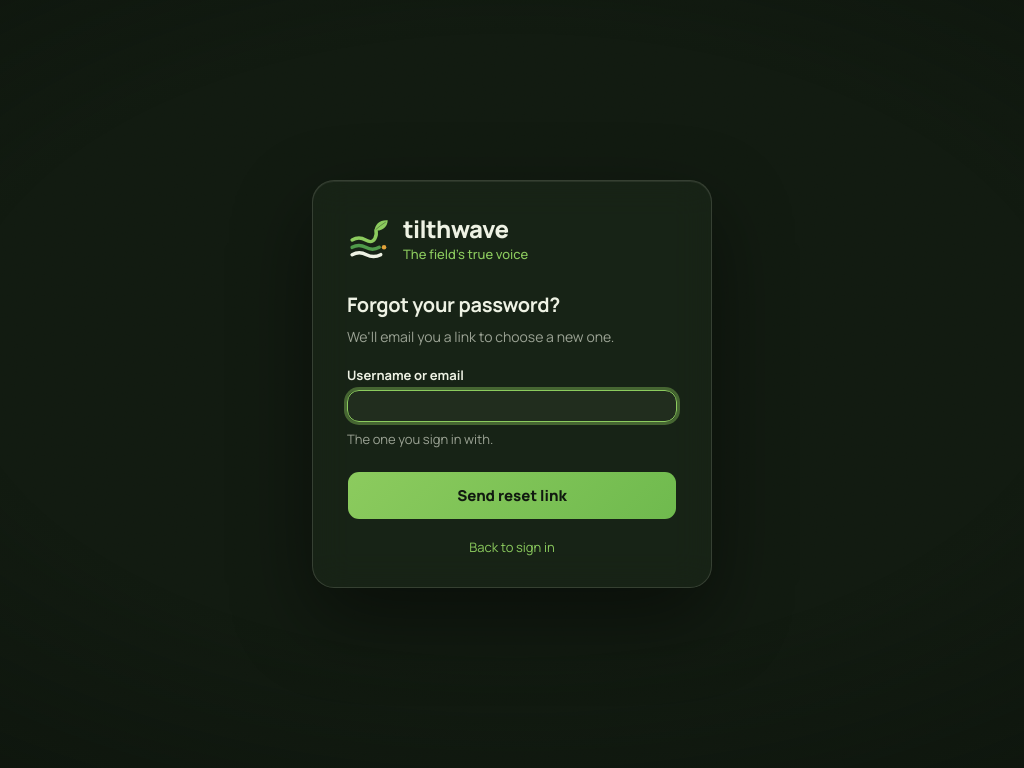
ForgotPasswordPage › sends the identifier and answers the same whether or not the account exists
Type "  pat@example.com " into the field labelled "Username or email". click: (512, 406)
box: [347,390,677,422]
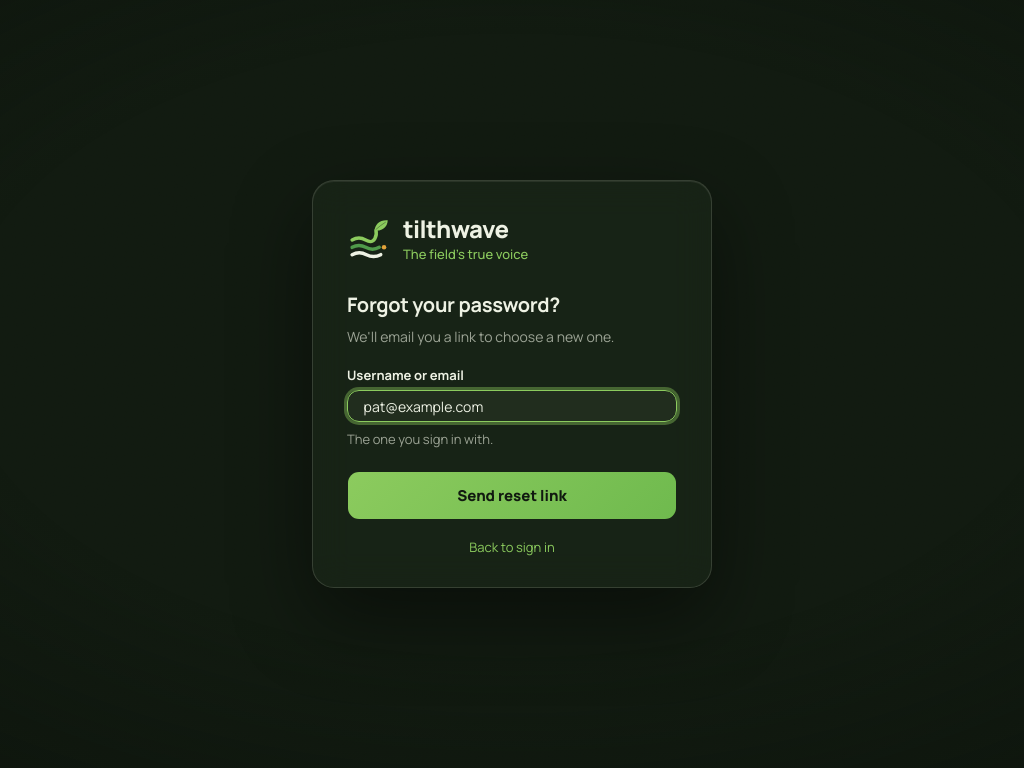
Click the button "Send reset link". click: (512, 495)
box: [347,471,677,520]
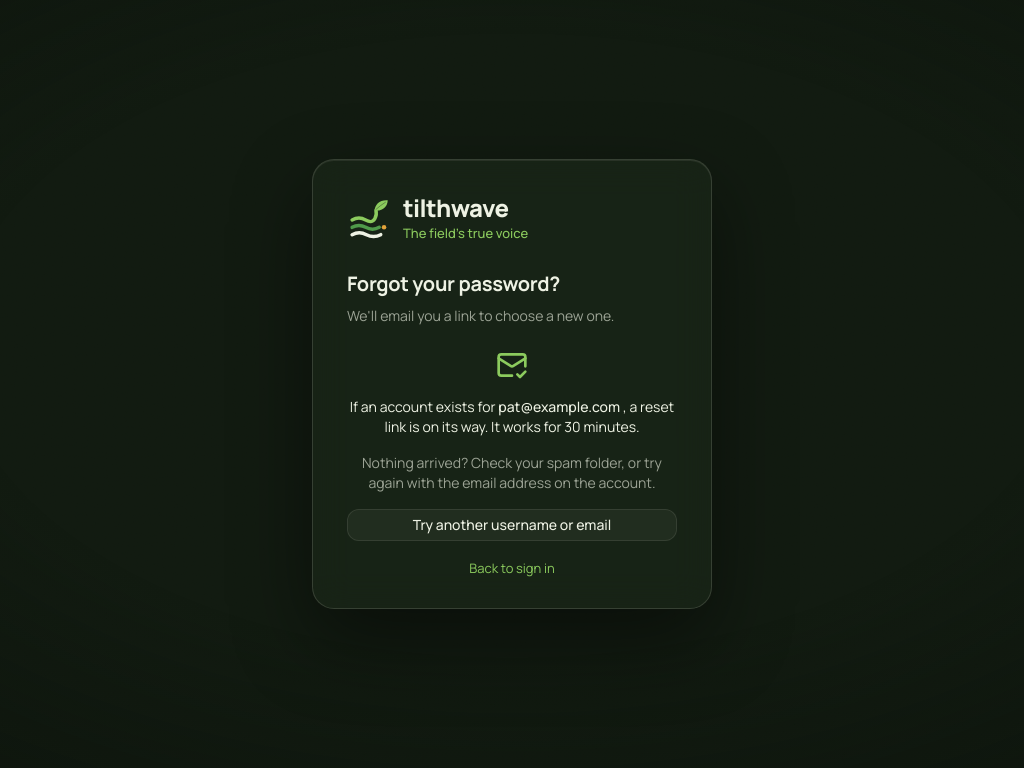
Expected: the text "If an account exists for" is shown, [350,396,498,416]
Click the button "Try another username or email". click: (512, 524)
box: [347,508,677,540]
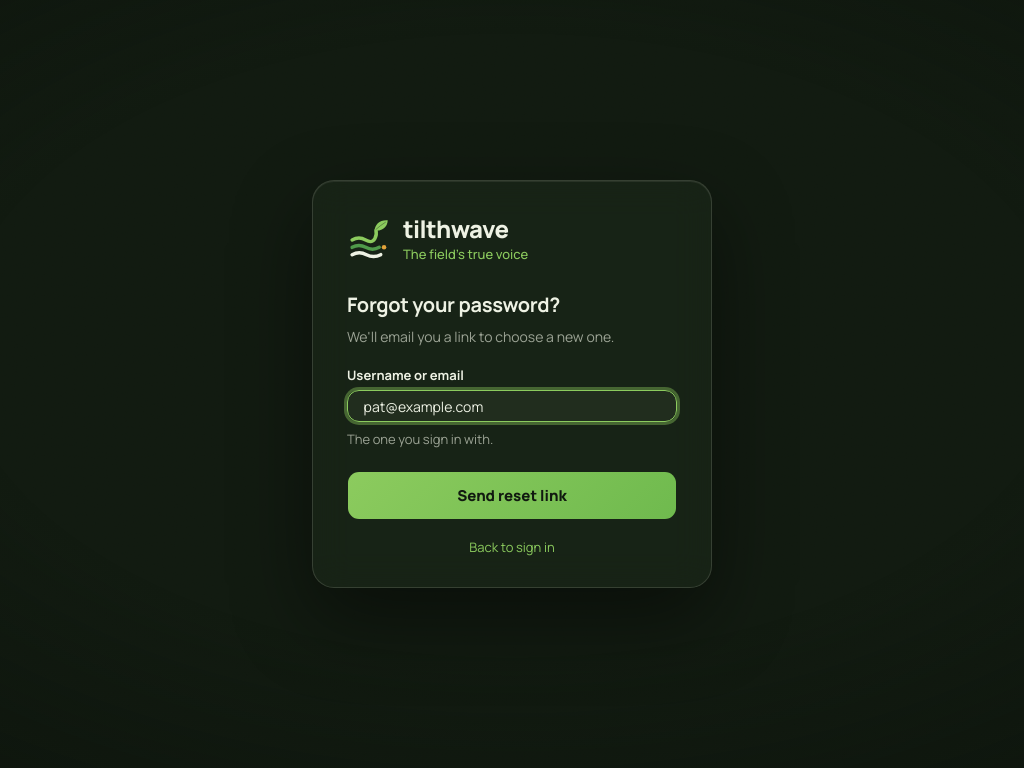
Expected: the field labelled "Username or email" is shown, [347,390,677,422]
